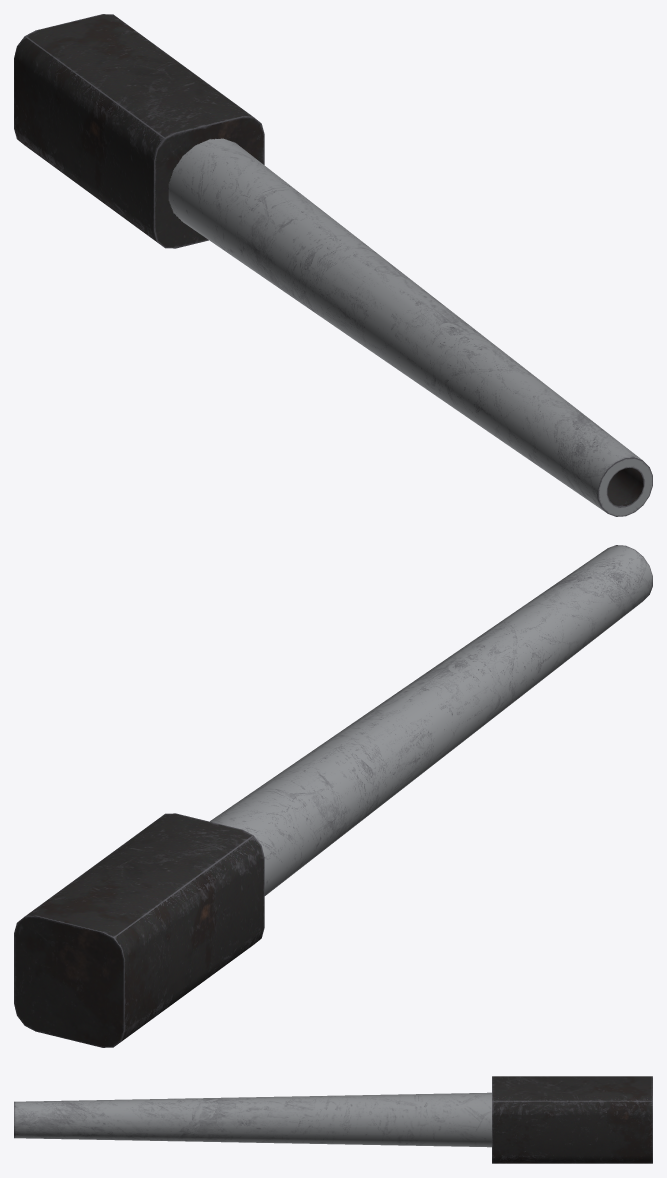
Rendered from gun_m_2.fbx.
3 renders of one model, top to bottom at view 1: azimuth 30°, elevation 25°; view 2: azimuth 150°, elevation 25°; view 3: azimuth 270°, elevation 25°, orthographic. The views are drawn at different scales.
Parts seen in each view (by area): view 1: gun_m_2; view 2: gun_m_2; view 3: gun_m_2.
Part boxes in pixels (<box>): gun_m_2: <box>14,14,652,516</box>; gun_m_2: <box>14,545,652,1047</box>; gun_m_2: <box>14,1076,652,1163</box>.
Bounding box in the file's own units: 1.08 × 1.08 × 9.44.
